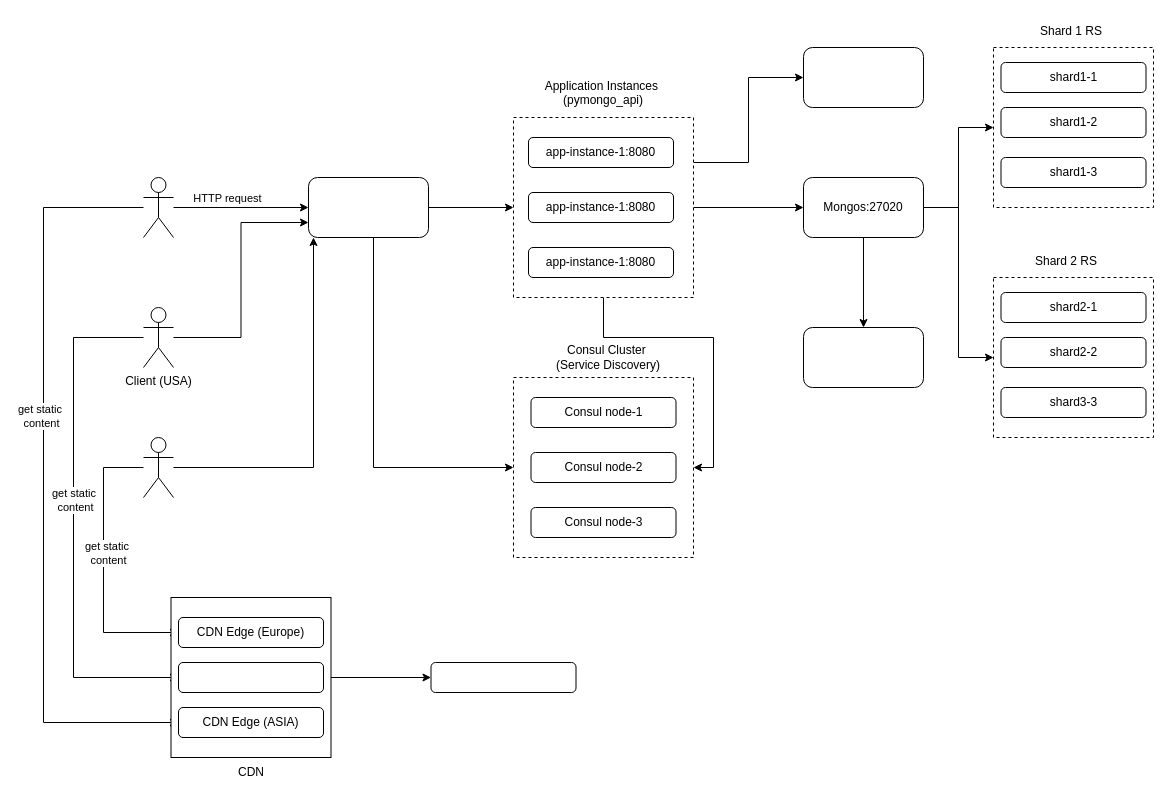
The diagram is 1171 pixels wide and 804 high, and some of its shapes have lost their labels. Here are the shapes that lost their labels. From the top down, the centre of each, then its label:
(x=863, y=77): Redis:6379
(x=158, y=207): Client (Asia)
(x=368, y=207): API Gateway (Load Balancer)
(x=863, y=357): configSrv :27017
(x=158, y=467): Client (Europe)
(x=251, y=677): CDN Edge (USA)
(x=503, y=677): tatic Content Origin (API / Object Storage S3)
